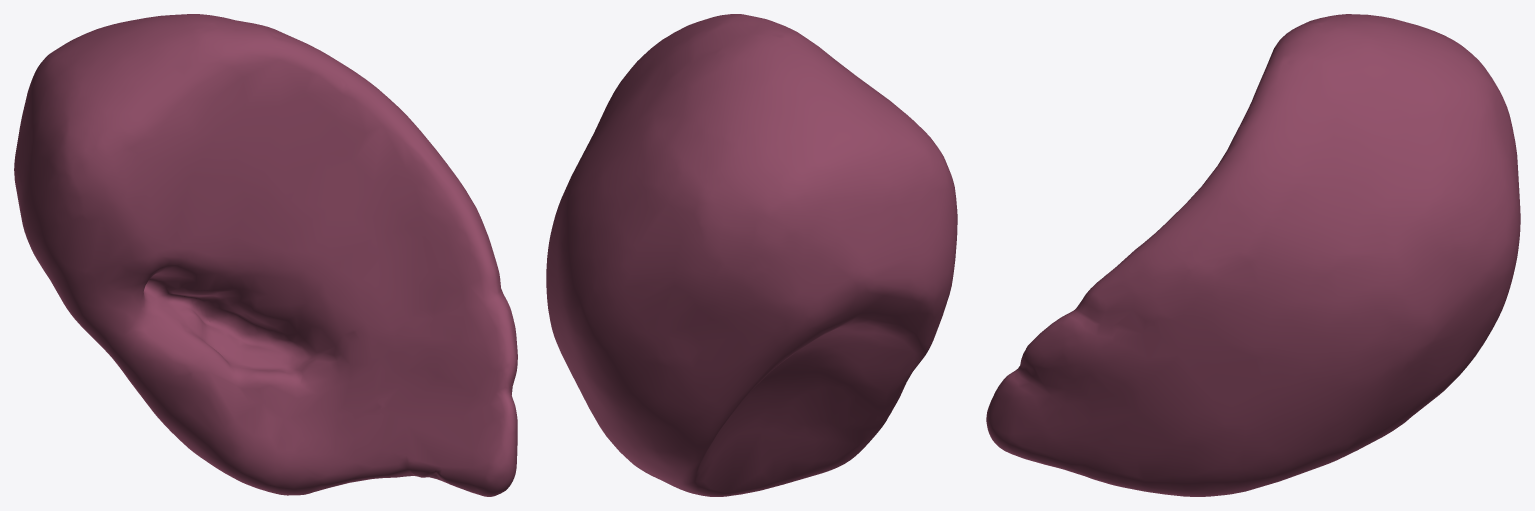
File: spleen.glb
The picture shows the model from 3 angles, left to right: view 1: azimuth 30°, elevation 25°; view 2: azimuth 150°, elevation 25°; view 3: azimuth 270°, elevation 25°; orthographic projection. The views are drawn at different scales.
Parts seen in each view (by area): view 1: FMA7196; view 2: FMA7196; view 3: FMA7196.
Part boxes in pixels (x1=…): FMA7196: x1=14, y1=14, x2=517, y2=496; FMA7196: x1=546, y1=14, x2=957, y2=496; FMA7196: x1=986, y1=14, x2=1520, y2=496.
Size of the model in its own units: 2.46 by 2.78 by 3.3.
